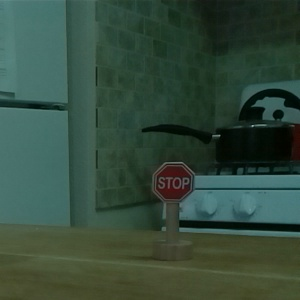stop sign: (148, 159, 196, 261)
